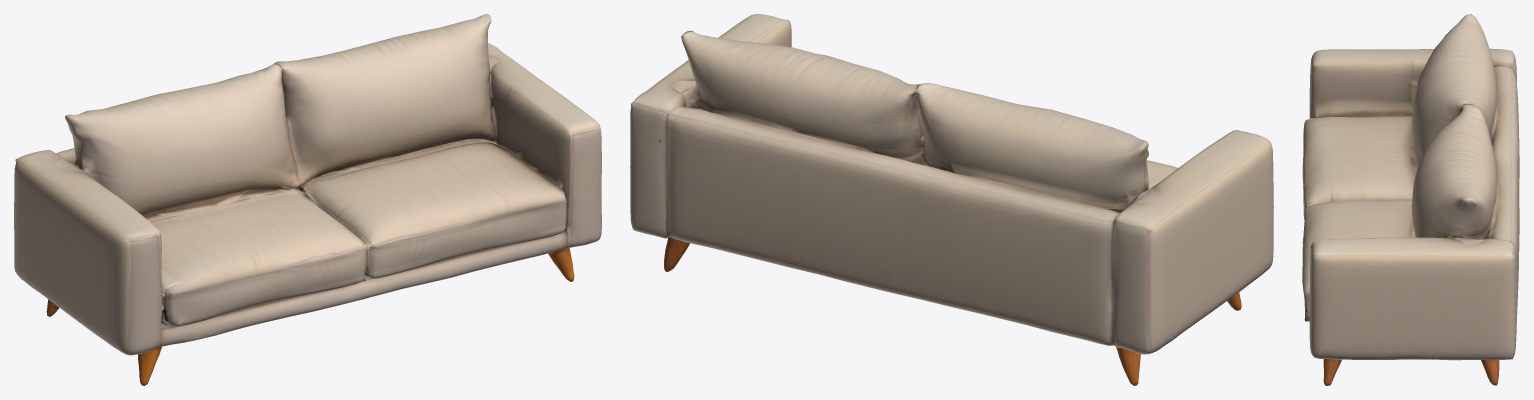
The model's file is sofa.glb.
3 renders of one model, left to right at view 1: azimuth 30°, elevation 25°; view 2: azimuth 150°, elevation 25°; view 3: azimuth 270°, elevation 25°, orthographic. The views are drawn at different scales.
Bounding box in the file's own units: 2 × 0.839 × 0.8741.
Materials: 1 (1 with a texture image).
